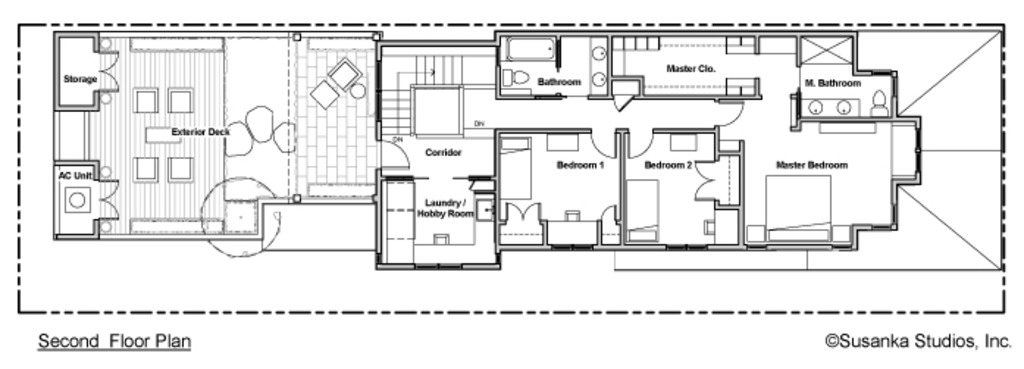bed: (760, 167, 845, 245), (493, 133, 537, 200), (626, 176, 664, 243)
door: (688, 153, 739, 202), (91, 174, 121, 220), (93, 46, 120, 97), (587, 120, 619, 162), (378, 135, 415, 171), (495, 196, 543, 223), (626, 124, 657, 164), (718, 94, 748, 133), (598, 203, 620, 234), (614, 93, 634, 115)
large_sink: (495, 60, 539, 90), (865, 85, 892, 116)
small_sink: (797, 89, 871, 123), (589, 36, 609, 91)
small_sofa: (122, 146, 198, 189), (119, 84, 199, 119), (323, 53, 368, 96)
stairs: (384, 41, 500, 139)
tub: (500, 38, 565, 62)
